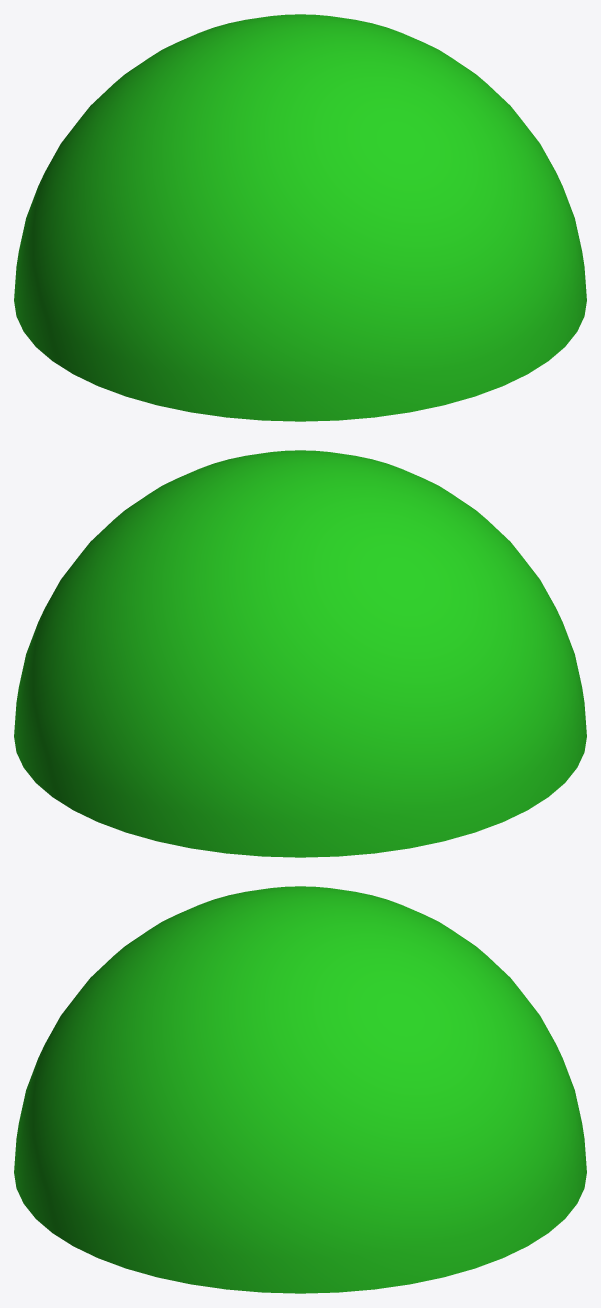
The model's file is energyBlob.fbx.
3 renders of one model, top to bottom at view 1: azimuth 30°, elevation 25°; view 2: azimuth 150°, elevation 25°; view 3: azimuth 270°, elevation 25°, orthographic.
Visible parts, largest first — view 1: Koule; view 2: Koule; view 3: Koule.
Part boxes in pixels (x1=…): Koule: x1=14, y1=14, x2=586, y2=421; Koule: x1=14, y1=450, x2=586, y2=857; Koule: x1=14, y1=886, x2=586, y2=1293.
Size of the model in its own units: 20 by 10 by 20.
